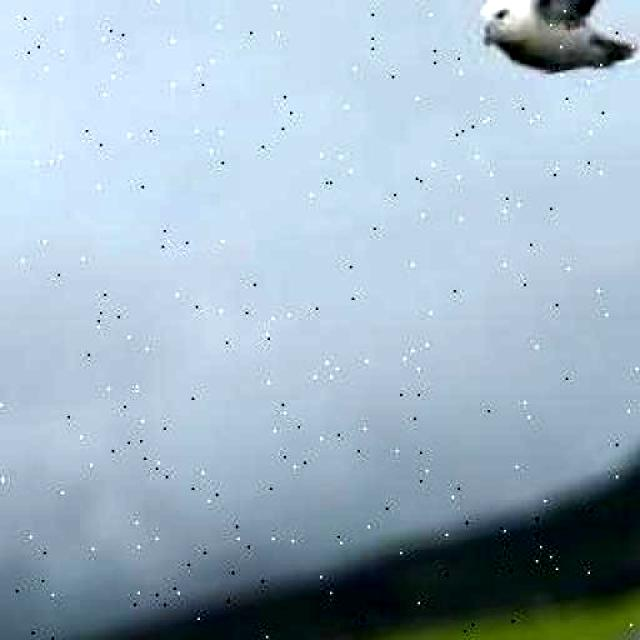airplane: (354, 0, 640, 112)
